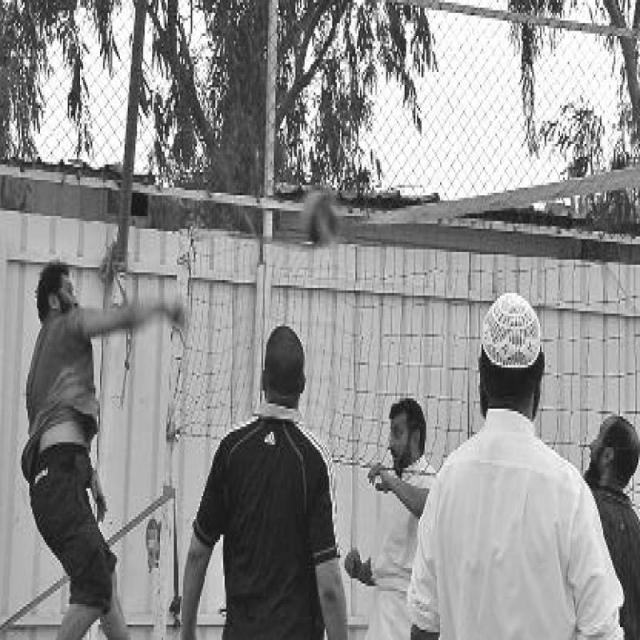volleyball: (302, 180, 344, 250)
